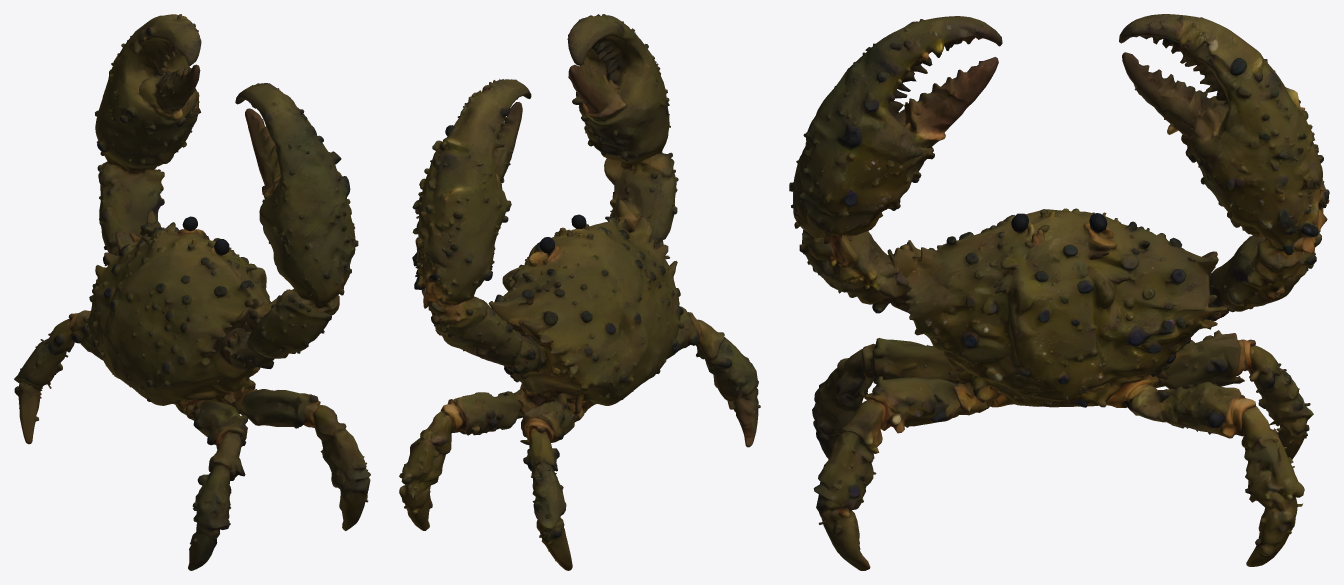
The picture shows the model from 3 angles, left to right: view 1: azimuth 30°, elevation 25°; view 2: azimuth 150°, elevation 25°; view 3: azimuth 270°, elevation 25°; orthographic projection. The views are drawn at different scales.
Visible parts, largest first — view 1: tripo_node_22560451-db30-4cf0-9cc9-8c2157f4ac40; view 2: tripo_node_22560451-db30-4cf0-9cc9-8c2157f4ac40; view 3: tripo_node_22560451-db30-4cf0-9cc9-8c2157f4ac40.
Boxes of the visible parts, x1,y1,x2,y2 form: tripo_node_22560451-db30-4cf0-9cc9-8c2157f4ac40: (14,14,370,570); tripo_node_22560451-db30-4cf0-9cc9-8c2157f4ac40: (399,14,760,570); tripo_node_22560451-db30-4cf0-9cc9-8c2157f4ac40: (789,14,1329,570).
Size of the model in its own units: 0.4299 by 1 by 0.9205.
Materials: 1 (1 with a texture image).
